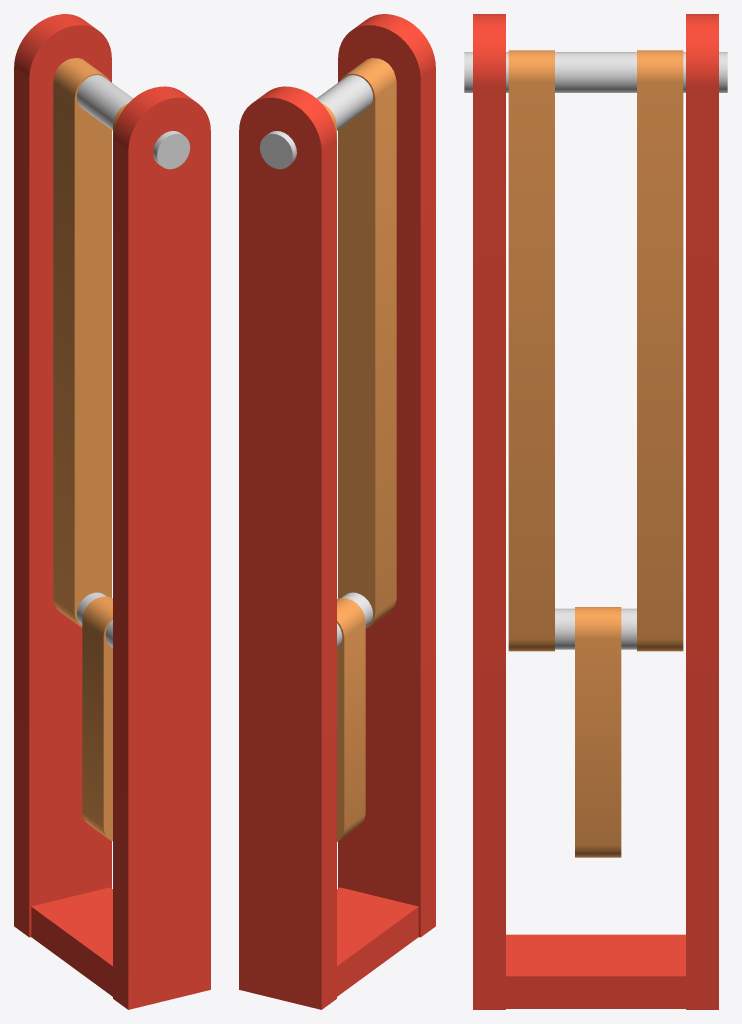
Rendered from Crane B Big.fbx.
3 renders of one model, left to right at view 1: azimuth 30°, elevation 25°; view 2: azimuth 150°, elevation 25°; view 3: azimuth 270°, elevation 25°, orthographic. The views are drawn at different scales.
Parts seen in each view (by area): view 1: Crane B Big.005, Crane B Big.003, Crane B Big.001, Crane B Big.004, Crane B Big.002, Crane B Big.006; view 2: Crane B Big.003, Crane B Big.005, Crane B Big.001, Crane B Big.004, Crane B Big.002, Crane B Big.006; view 3: Crane B Big.001, Crane B Big.003, Crane B Big.005, Crane B Big.002, Crane B Big.004, Crane B Big.006.
Boxes of the visible parts, x1,y1,x2,y2 form: Crane B Big.005: (113,86,210,1009); Crane B Big.003: (14,14,111,937); Crane B Big.001: (53,58,127,647); Crane B Big.004: (82,596,112,841); Crane B Big.002: (31,887,112,996); Crane B Big.006: (56,59,189,169); Crane B Big.003: (239,86,336,1009); Crane B Big.005: (338,14,435,937); Crane B Big.001: (322,58,396,647); Crane B Big.004: (337,598,365,841); Crane B Big.002: (337,887,418,996); Crane B Big.006: (260,59,393,169); Crane B Big.001: (508,50,683,651); Crane B Big.003: (686,14,718,1009); Crane B Big.005: (473,14,505,1009); Crane B Big.002: (506,934,685,1008); Crane B Big.004: (575,607,621,857); Crane B Big.006: (464,52,727,92).
Bounding box in the file's own units: 53.12 × 554 × 136.
